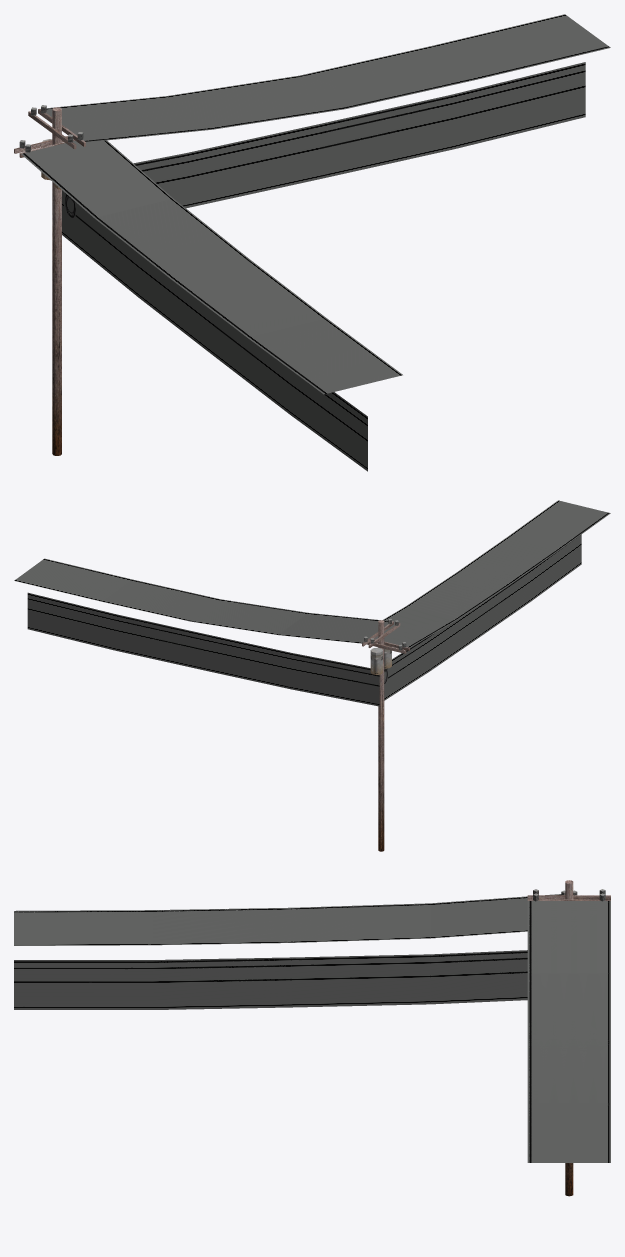
Rendered from tpole20_2corner.fbx.
3 views of the same model, one above another, from view 1: azimuth 30°, elevation 25°; view 2: azimuth 150°, elevation 25°; view 3: azimuth 270°, elevation 25° (orthographic). The views are drawn at different scales.
Visible parts, largest first — view 1: mesh_1, mesh_0; view 2: mesh_1, mesh_0; view 3: mesh_0, mesh_1.
Boxes of the visible parts, x1=… form: mesh_1: x1=28, y1=14, x2=610, y2=208; mesh_0: x1=14, y1=107, x2=402, y2=471; mesh_1: x1=14, y1=558, x2=400, y2=706; mesh_0: x1=367, y1=500, x2=610, y2=851; mesh_0: x1=14, y1=880, x2=577, y2=1196; mesh_1: x1=527, y1=889, x2=610, y2=1162.
Bounding box in the file's own units: 2150 × 1242 × 2150.
1 material, 1 textured.
